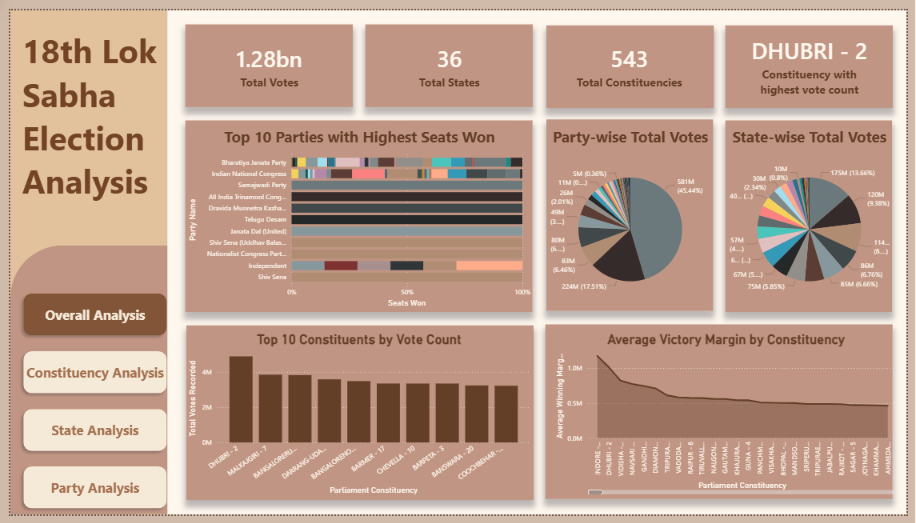

Layout of this report page (visuals, bound fields, positions):
{"tool":"powerbi","page":{"name":"Overall Analysis","canvas":[1600,900],"ordinal":0},"visuals":[{"type":"shape","box":[313.3,25.6,298.9,147.8],"z":0,"group":"g1"},{"type":"shape","box":[634.4,25.6,298.9,147.8],"z":1000,"group":"g1"},{"type":"shape","box":[957.7,26.7,298.9,147.8],"z":2000,"group":"g1"},{"type":"shape","box":[1277.7,26.7,298.9,147.8],"z":3000,"group":"g1"},{"type":"shape","box":[313.3,197.8,620,342.2],"z":4000,"group":"g1"},{"type":"shape","box":[0,0,280,900],"z":5000},{"type":"shape","box":[957.7,195.6,297.8,342.2],"z":5000,"group":"g1"},{"type":"shape","box":[0,420,370,480],"z":5375},{"type":"shape","box":[280,0,1320,900],"z":5750},{"type":"group","id":"g1","title":"Shapes","box":[313.3,25.6,1263.3,848.9],"z":6000},{"type":"shape","box":[1277.7,196.7,297.8,342.2],"z":6000,"group":"g1"},{"type":"textbox","box":[16,26,296,320],"z":7000},{"type":"shape","box":[314.4,562.3,620,312.2],"z":7000,"group":"g1"},{"type":"shape","box":[956,562,620,312],"z":8000,"group":"g1"},{"type":"shape","box":[0,746,224,154],"z":9000},{"type":"cardVisual","fields":{"Data":["CountNonNull(States.State)"]},"box":[634.3,25.8,300,148],"z":9062},{"type":"cardVisual","fields":{"Data":["CountNonNull(Constituency_Results.Constituency ID)"]},"box":[955.9,25.8,300,148],"z":9125},{"type":"cardVisual","fields":{"Data":["Sum(Constituency_Details.Total Votes)"]},"box":[312.6,25.8,300,148.4],"z":9250},{"type":"cardVisual","fields":{"Data":["Measures (2).Top Constituency"]},"box":[1277.5,25.8,300,147.5],"z":9500},{"type":"hundredPercentStackedBarChart","title":"Top 10 Parties with Highest Seats Won","fields":{"Y":["Measures (2).Seats Won"],"Series":["States.State"],"Category":["Party_Results.Party Name"]},"box":[312,196,622,344],"z":10000},{"type":"columnChart","title":"Top 10 Constituents by Vote Count","fields":{"Y":["Measures (2).Total Votes Recorded"],"Category":["Constituency_Results.Parliament Constituency"]},"box":[313.4,562.5,620.6,311.8],"z":11000},{"type":"pieChart","title":"Party-wise Total Votes","fields":{"Y":["Measures (2).Total Votes Recorded"],"Category":["Party_Results.Party short form"]},"box":[956.2,196.2,300,343.8],"z":12000},{"type":"pieChart","title":"State-wise Total Votes","fields":{"Y":["Sum(Constituency_Details.Total Votes)"],"Category":["States.State"]},"box":[1277.5,196.2,300,343.8],"z":13000},{"type":"stackedAreaChart","title":"Average Victory Margin by Constituency","fields":{"Category":["Constituency_Results.Parliament Constituency"],"Y":["Measures (2).Average Winning Margin"]},"box":[967.6,562.5,620.6,311.8],"z":14000},{"type":"pageNavigator","box":[14.8,495.9,274.1,404.1],"z":15000}]}

Visuals, with their boxes in screenshot pixels (x1, y1, x2, y2), scaled from the page's 1600x900 canvas onto the 916x523 screenshot:
shape: bbox(179, 15, 350, 101)
shape: bbox(363, 15, 534, 101)
shape: bbox(548, 16, 719, 101)
shape: bbox(731, 16, 903, 101)
shape: bbox(179, 115, 534, 314)
shape: bbox(0, 0, 160, 522)
shape: bbox(548, 114, 719, 313)
shape: bbox(0, 244, 212, 522)
shape: bbox(160, 0, 915, 522)
"Shapes" group: bbox(179, 15, 903, 508)
shape: bbox(731, 114, 902, 313)
textbox: bbox(9, 15, 179, 201)
shape: bbox(180, 327, 535, 508)
shape: bbox(547, 327, 902, 508)
shape: bbox(0, 434, 128, 522)
cardVisual - CountNonNull(States.State): bbox(363, 15, 535, 101)
cardVisual - CountNonNull(Constituency_Results.Constituency ID): bbox(547, 15, 719, 101)
cardVisual - Sum(Constituency_Details.Total Votes): bbox(179, 15, 351, 101)
cardVisual - Measures (2).Top Constituency: bbox(731, 15, 903, 101)
"Top 10 Parties with Highest Seats Won" hundredPercentStackedBarChart: bbox(179, 114, 535, 314)
"Top 10 Constituents by Vote Count" columnChart: bbox(179, 327, 535, 508)
"Party-wise Total Votes" pieChart: bbox(547, 114, 719, 314)
"State-wise Total Votes" pieChart: bbox(731, 114, 903, 314)
"Average Victory Margin by Constituency" stackedAreaChart: bbox(554, 327, 909, 508)
pageNavigator: bbox(8, 288, 165, 522)
